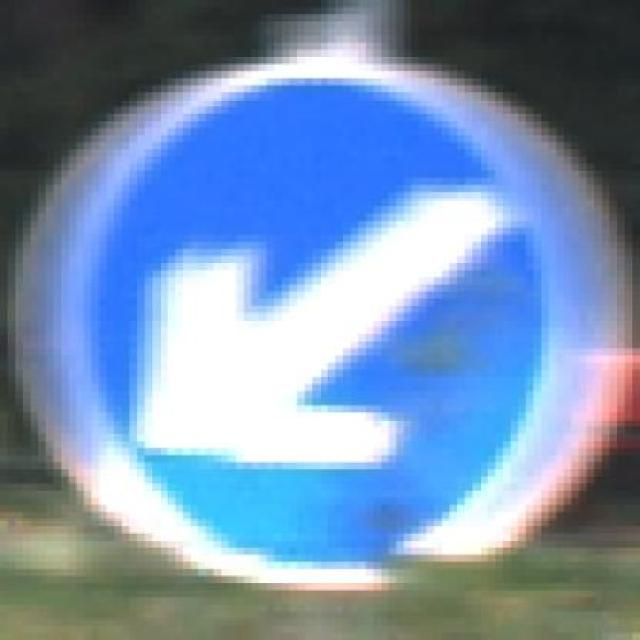Keep-Left: (15, 15, 632, 633)
